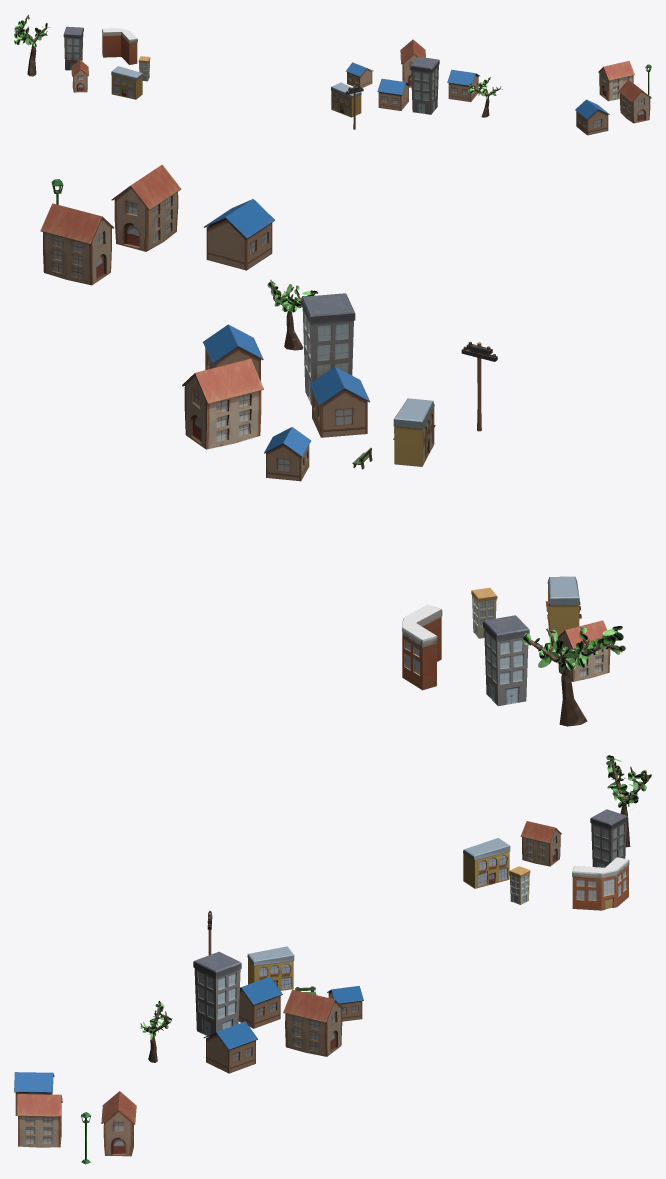
Rendered from northcity.glb.
The picture shows the model from 3 angles, top to bottom: view 1: azimuth 30°, elevation 25°; view 2: azimuth 150°, elevation 25°; view 3: azimuth 270°, elevation 25°; orthographic projection. The views are drawn at different scales.
Parts seen in each view (by area): view 1: NORTHCITY.001; view 2: NORTHCITY.001; view 3: NORTHCITY.001.
Boxes of the visible parts, x1=… form: NORTHCITY.001: x1=14, y1=14, x2=651, y2=135; NORTHCITY.001: x1=40, y1=164, x2=625, y2=726; NORTHCITY.001: x1=14, y1=755, x2=651, y2=1164.
Size of the model in its own units: 33.28 by 3.56 by 26.66.
Materials: 1 (1 with a texture image).
